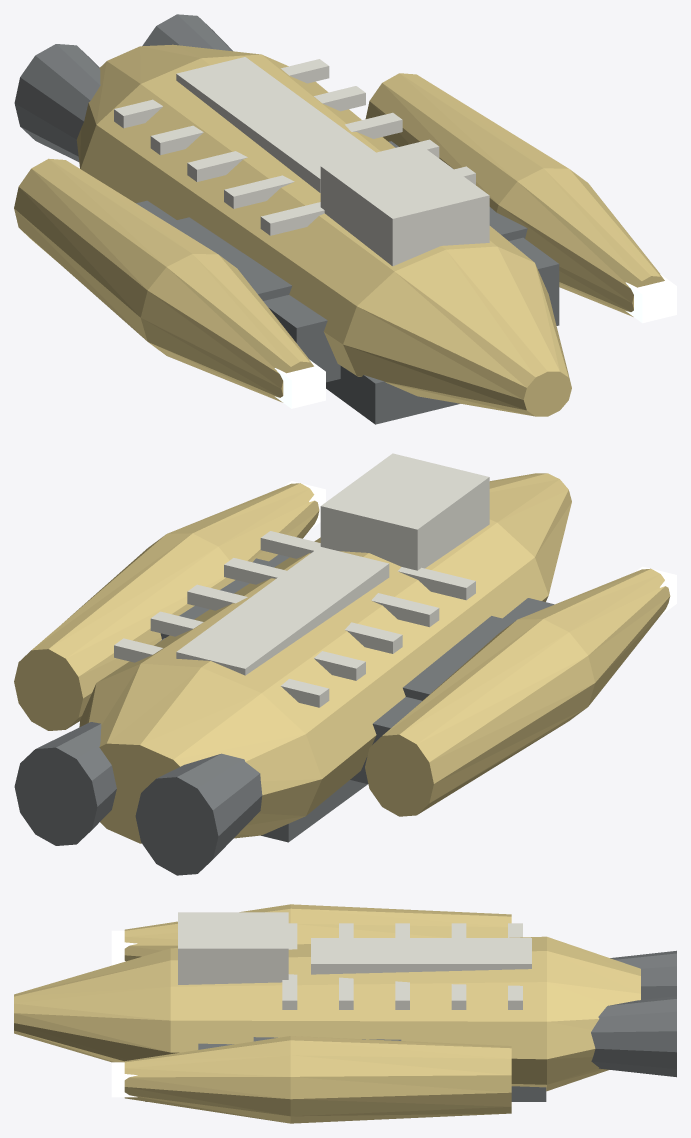
The picture shows the model from 3 angles, top to bottom: view 1: azimuth 30°, elevation 25°; view 2: azimuth 150°, elevation 25°; view 3: azimuth 270°, elevation 25°; orthographic projection. The views are drawn at different scales.
Size of the model in its own units: 4.68 by 1.88 by 7.7.
